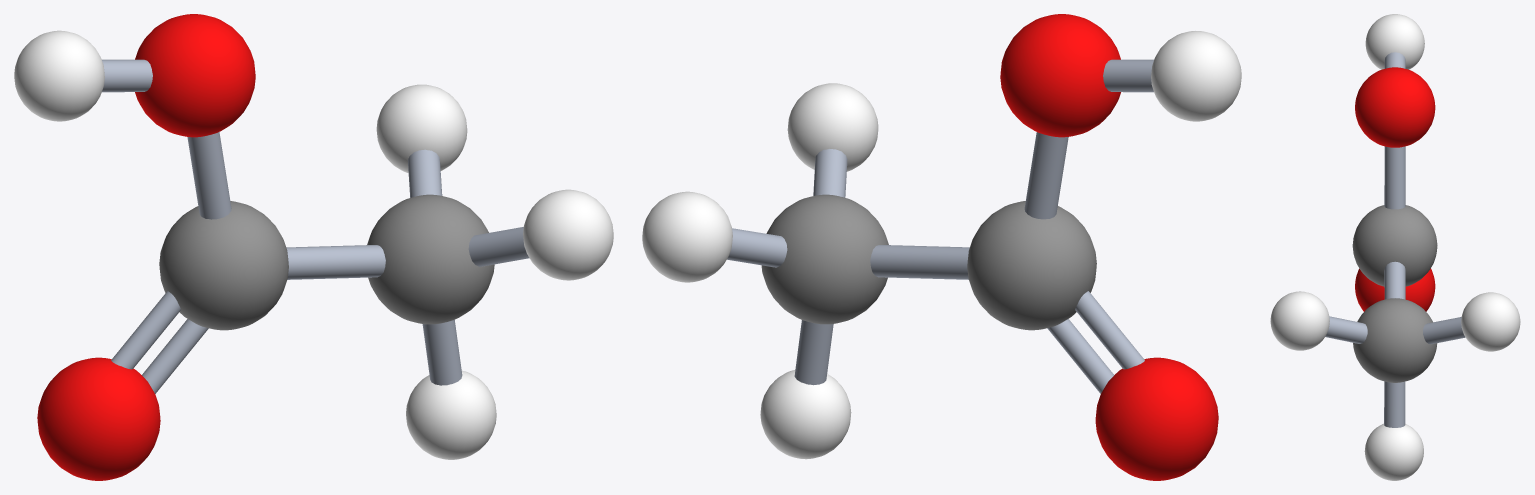
Rendered from acetic-acid.glb.
3 renders of one model, left to right at view 1: azimuth 30°, elevation 25°; view 2: azimuth 150°, elevation 25°; view 3: azimuth 270°, elevation 25°, orthographic. The views are drawn at different scales.
Visible parts, largest first — view 1: H (×4), C (×2), O (×2), bond (×8); view 2: H (×4), C (×2), O (×2), bond (×8); view 3: H (×4), C (×2), O (×2), bond (×6).
Part boxes in pixels (x1,y1,x2,y2): H (×4): (14,30,613,459); C (×2): (159,194,494,330); O (×2): (37,14,255,480); bond (×8): (102,59,529,393); H (×4): (642,31,1241,459); C (×2): (761,194,1096,330); O (×2): (1000,14,1218,480); bond (×8): (727,59,1153,393); H (×4): (1270,14,1520,480); C (×2): (1352,205,1437,382); O (×2): (1355,67,1435,311); bond (×6): (1325,52,1465,427).
Bounding box in the file's own units: 0.22 × 0.2106 × 0.1417.
